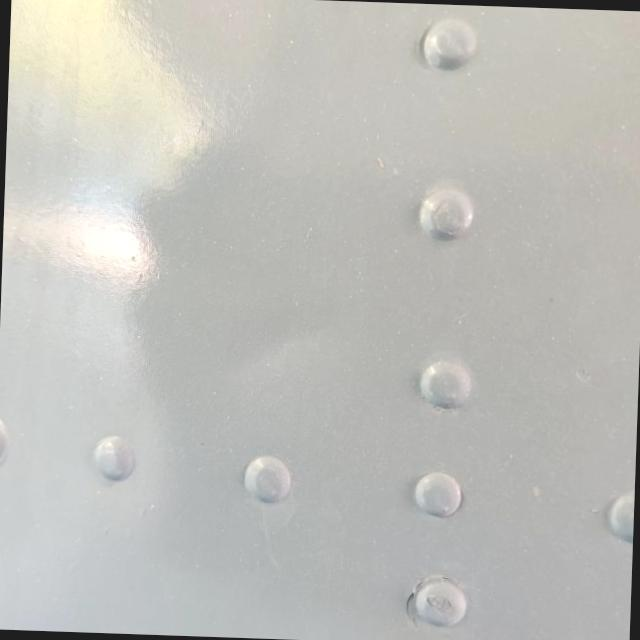dent: (203, 292, 344, 414)
